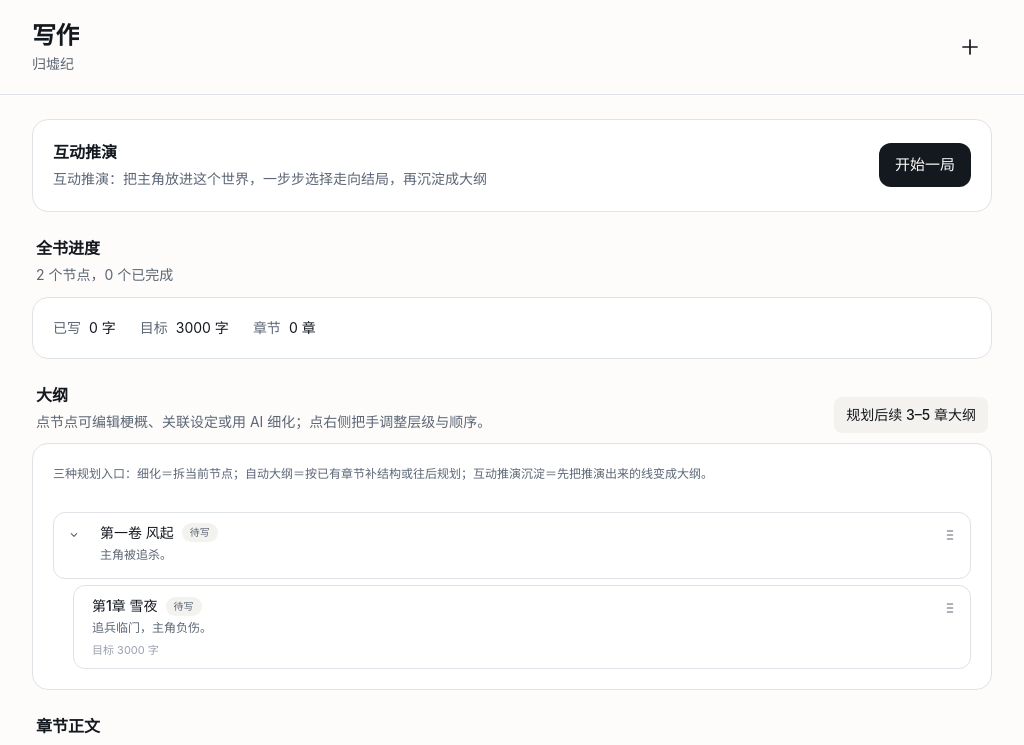
Test case: 从大纲进入写作 › 叶子节点提供「写这一章」，有子节点的不提供
This screenshot has width=1024, height=745.
What coordinates should you click on to do the following:
click the button with aria-label "编辑「第一卷 风起」"
I would click on:
 (137, 532)
Its box is [92, 513, 932, 578].
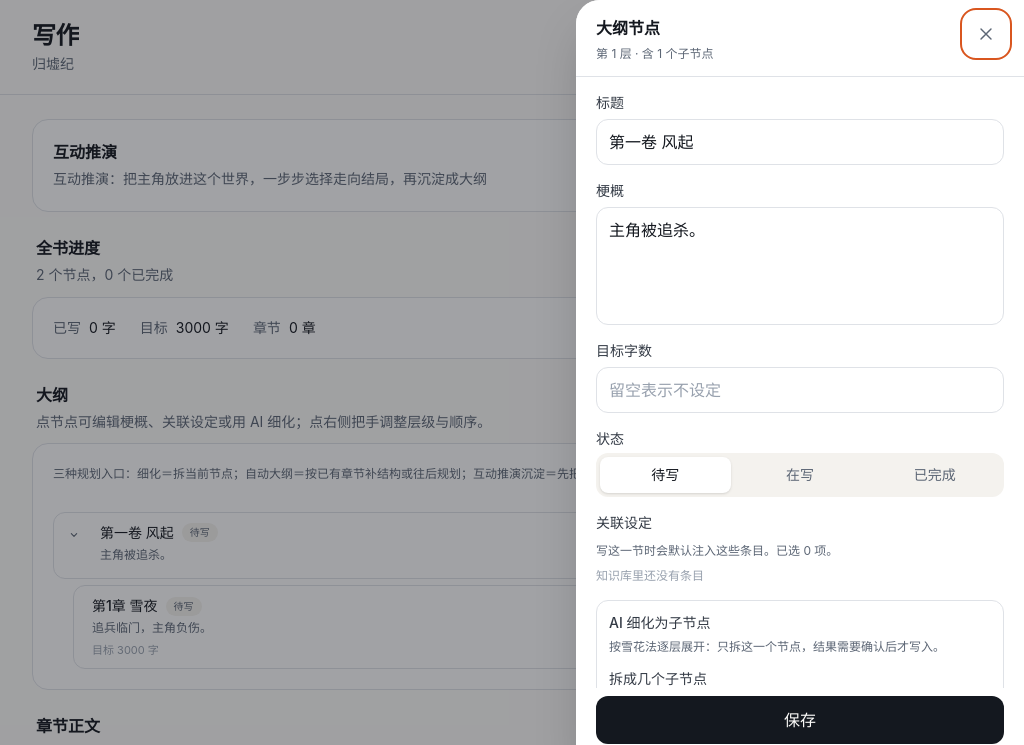
What coordinates should you click on to do the following:
click the button named "关闭"
I would click on:
 (986, 34)
Its box is [964, 12, 1008, 56].
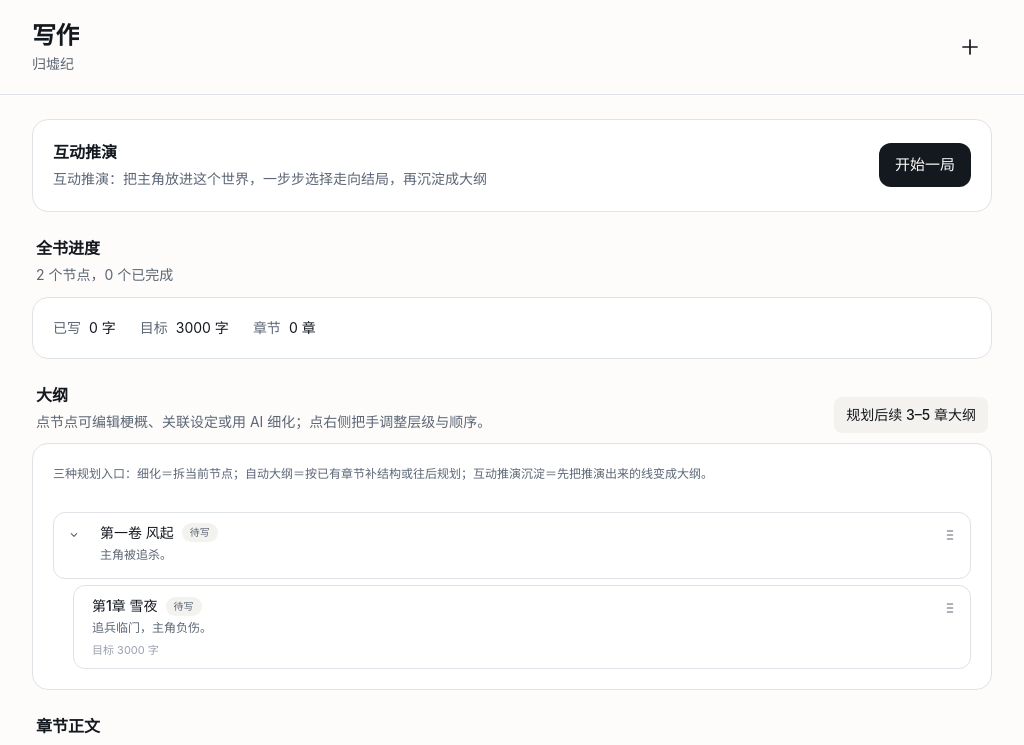
What coordinates should you click on to do the following:
click the button with aria-label "编辑「第1章 雪夜」"
I would click on:
 (125, 606)
Its box is [84, 586, 932, 668].
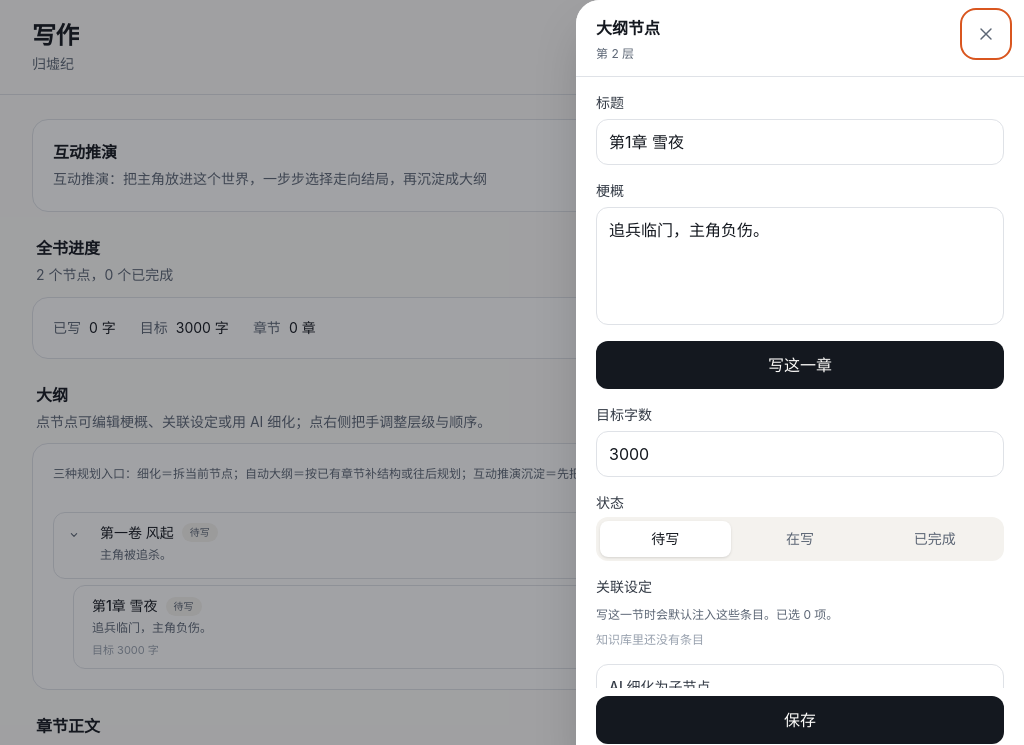
Expected: the button "写这一章" is shown, [596, 340, 1004, 388]
